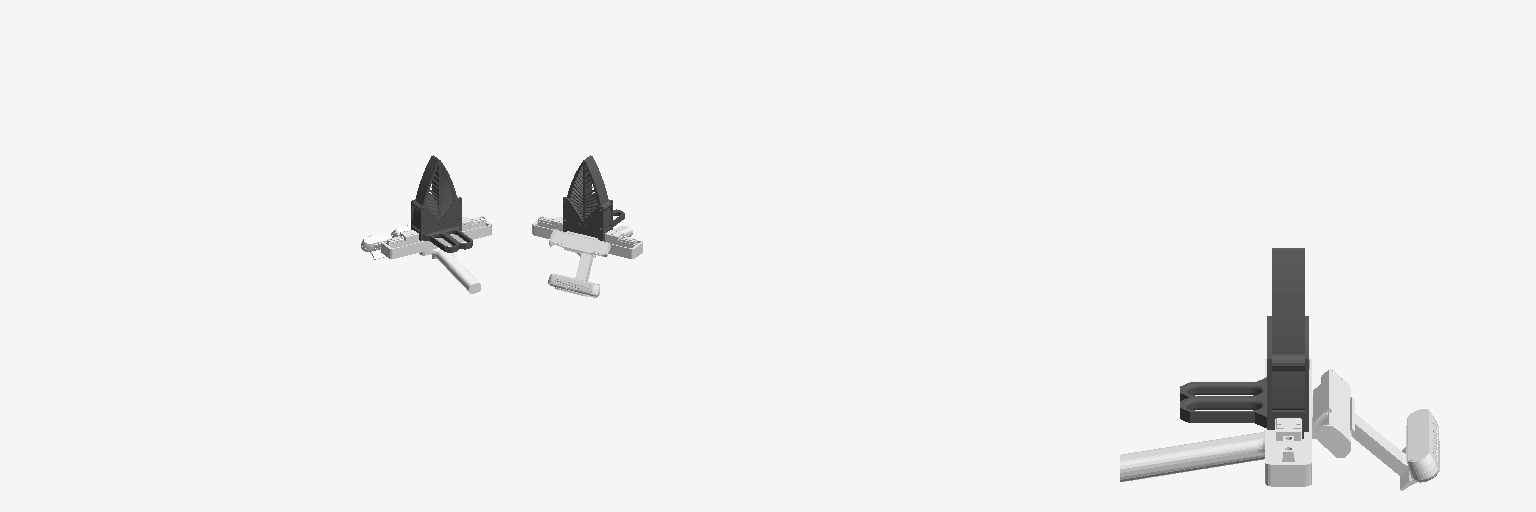
robot.urdf — gripper:
<?xml version="1.0" encoding="utf-8"?>
<robot name="gripper">
  <material name="gripper_white">
    <color rgba="1 1 1 1"/>
  </material>
  <material name="gripper_gray">
    <color rgba="0.4 0.4 0.4 1"/>
  </material>
  <material name="silver">
    <color rgba="0.5 0.5 0.5 1"/>
  </material>

  <link name="gripper_base">
  	<inertial>
      <origin rpy="0 0 0" xyz="0 0 0.0"/>
       <mass value=".81"/>
       <inertia ixx="0.1" ixy="0" ixz="0" iyy="0.1" iyz="0" izz="0.1"/>
    </inertial>
    <visual>
      <geometry>
        <mesh filename="package://realsense2_camera/objs/gripper.obj"/>
      </geometry>
      <material name="gripper_white"/>
    </visual>
    <collision>
      <geometry>
        <mesh filename="package://realsense2_camera/objs/gripper.obj"/>
      </geometry>
      <material name="gripper_white"/>
    </collision>
  </link>

  <link name="gripper_left">
  	<inertial>
      <origin rpy="0 0 0" xyz="0 0 0.0"/>
       <mass value=".81"/>
       <inertia ixx="0.1" ixy="0" ixz="0" iyy="0.1" iyz="0" izz="0.1"/>
    </inertial>
    <visual>
      <geometry>
        <mesh filename="package://realsense2_camera/objs/left_finger.obj"/>
      </geometry>
      <material name="gripper_gray"/>
    </visual>
    <collision>
      <geometry>
        <mesh filename="package://realsense2_camera/objs/left_finger.obj"/>
      </geometry>
      <material name="gripper_gray"/>
    </collision>
  </link>

  <link name="gripper_right">
  	<inertial>
      <origin rpy="0 0 0" xyz="0 0 0.0"/>
       <mass value=".81"/>
       <inertia ixx="0.1" ixy="0" ixz="0" iyy="0.1" iyz="0" izz="0.1"/>
    </inertial>
    <visual>
      <geometry>
        <mesh filename="package://realsense2_camera/objs/right_finger.obj"/>
      </geometry>
      <material name="gripper_gray"/>
    </visual>
    <collision>
      <geometry>
        <mesh filename="package://realsense2_camera/objs/right_finger.obj"/>
      </geometry>
      <material name="gripper_gray"/>
    </collision>
  </link>


  <joint name="finger_joint_left" type="prismatic">
    <parent link="gripper_base"/>
    <child link="gripper_left"/>
    <origin rpy="0 0 0" xyz="0 0 0.0"/>
    <axis xyz="-1 0 0"/>
    <limit effort="20" lower="0.0" upper="0.05" velocity="0.2"/>
  </joint>

  <joint name="finger_joint_right" type="prismatic">
    <parent link="gripper_base"/>
    <child link="gripper_right"/>
    <origin rpy="0 0 0" xyz="0 0 0.0"/>
    <axis xyz="1 0 0"/>
    <limit effort="20" lower="0.0" upper="0.05" velocity="0.2"/>
    <mimic joint="finger_joint_left"/>
  </joint>

  <link name="ft_peeler">
  	<inertial>
      <origin rpy="0 0 0" xyz="0 0 0.0"/>
       <mass value=".81"/>
       <inertia ixx="0.1" ixy="0" ixz="0" iyy="0.1" iyz="0" izz="0.1"/>
    </inertial>
    <visual>
      <geometry>
        <mesh filename="package://realsense2_camera/objs/peeler.obj"/>
      </geometry>
      <material name="gripper_gray"/>
    </visual>
    <collision>
      <geometry>
        <mesh filename="package://realsense2_camera/objs/peeler.obj"/>
      </geometry>
      <material name="gripper_gray"/>
    </collision>
  </link>

  <joint name="ft_peeler_joint" type="floating">
    <parent link="gripper_base"/>
    <child link="ft_peeler"/>
    <origin rpy="0 0 0" xyz="0 0 0.0"/>
    <limit effort="20" lower="-2" upper="2" velocity="0.2"/>
  </joint>
</robot>

--- Render facts (derived) ---
3 views of the same robot in one strip: view 1: azimuth 30°, elevation 25°; view 2: azimuth 150°, elevation 25°; view 3: azimuth 270°, elevation 25° (orthographic).
Model gripper with 4 links and 3 joints (2 prismatic, 1 floating), rooted at gripper_base, posed every joint at zero.
Visible links, largest first — view 1: gripper_base, gripper_left, gripper_right; view 2: gripper_base, gripper_left, gripper_right; view 3: gripper_base, gripper_right, gripper_left.
Boxes of the visible links, bbox=[...] form: gripper_base: bbox=[361, 216, 491, 293]; gripper_left: bbox=[411, 156, 458, 252]; gripper_right: bbox=[433, 155, 472, 249]; gripper_base: bbox=[532, 216, 642, 297]; gripper_left: bbox=[583, 156, 624, 241]; gripper_right: bbox=[563, 155, 590, 233]; gripper_base: bbox=[1120, 20, 1439, 490]; gripper_right: bbox=[1180, 249, 1308, 438]; gripper_left: bbox=[1180, 248, 1308, 400].
Bounding box of the posed robot: 0.9167 × 0.2525 × 0.2114 m (x, y, z).
Meshes: 4 distinct files referenced, 3 mesh visuals loaded (3 OBJ); not drawn: 1 (reference not matched to a file when rendering).